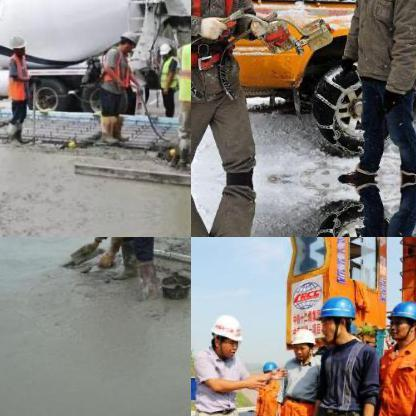Helmet: (314, 292, 358, 342), (206, 308, 242, 358), (384, 297, 415, 342), (288, 325, 316, 359), (115, 26, 137, 54), (258, 356, 278, 379), (8, 34, 28, 54), (156, 40, 174, 61)
